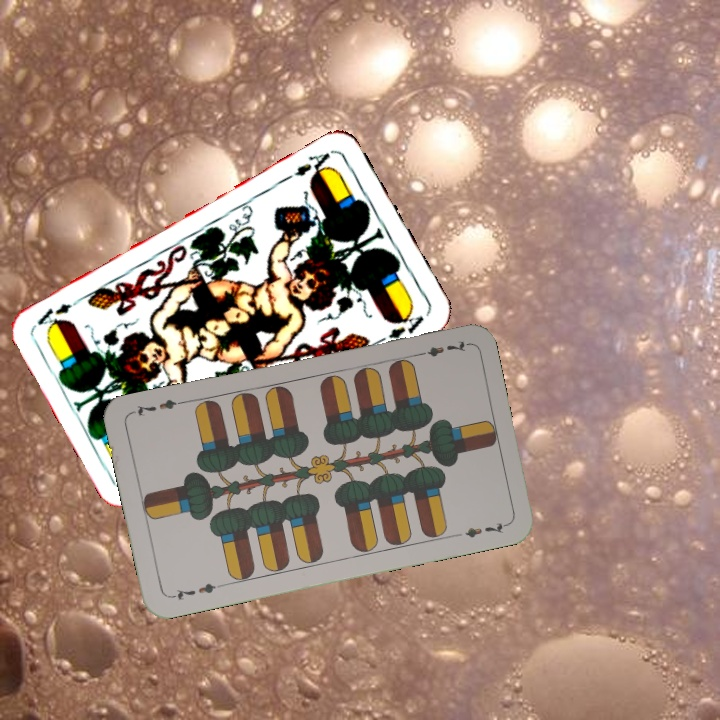E7: (411, 336, 470, 360), (167, 579, 218, 603)
EA: (290, 146, 336, 181)
